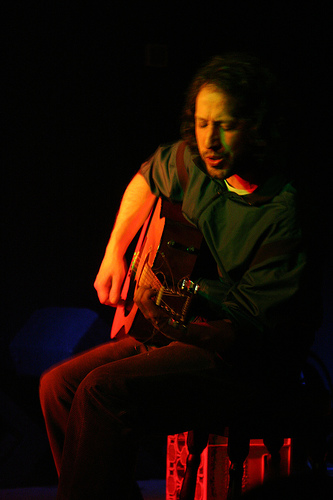guitar: (107, 191, 203, 341)
